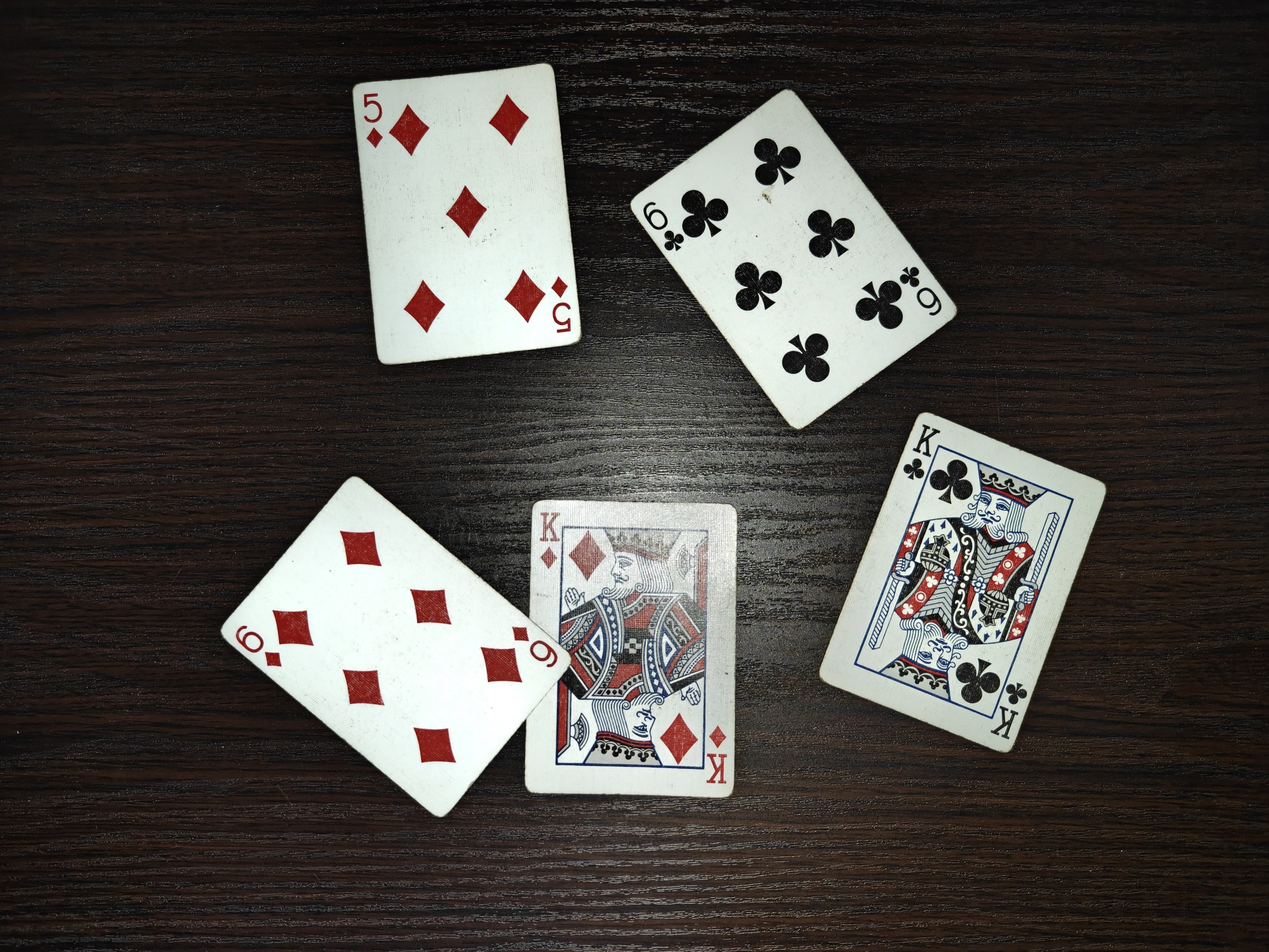5D: (352, 61, 584, 364)
6C: (630, 89, 960, 432)
6D: (219, 476, 570, 819)
KC: (820, 410, 1106, 753)
KD: (527, 497, 739, 799)
